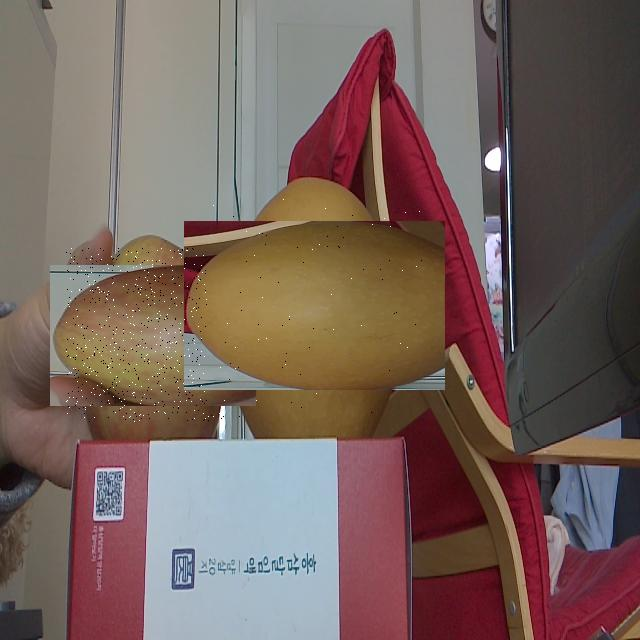apple: (66, 248, 240, 422)
pear: (207, 198, 422, 413)
